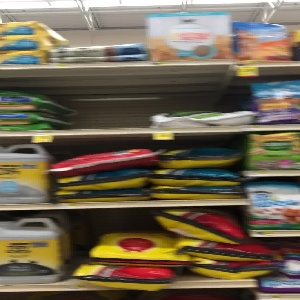void: (52, 69, 153, 129)
